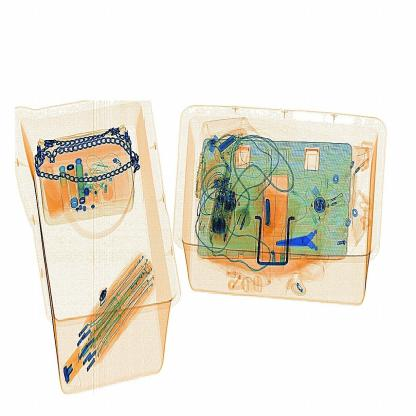gun: (276, 216, 341, 264)
